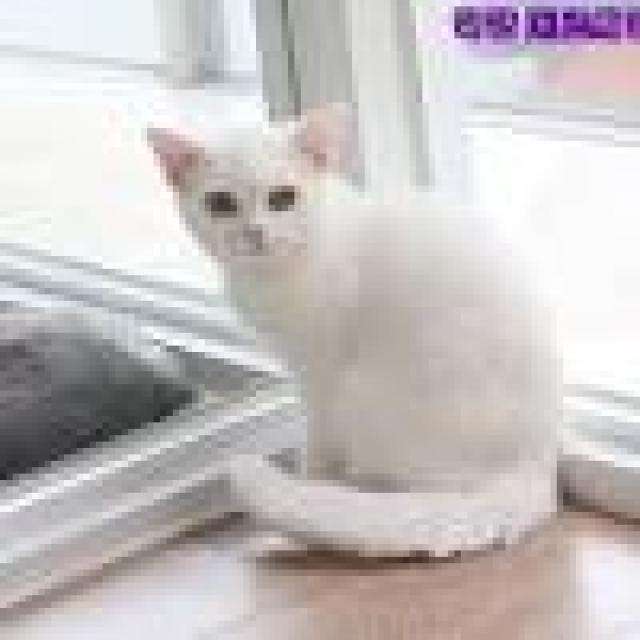cat-face: (119, 96, 387, 338)
